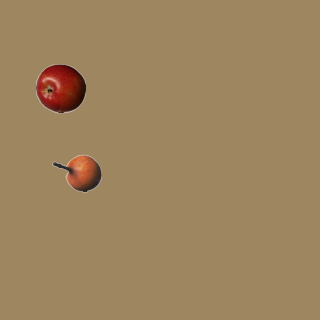Apple Braeburn: (35, 63, 85, 113)
Granadilla: (51, 148, 101, 198)
